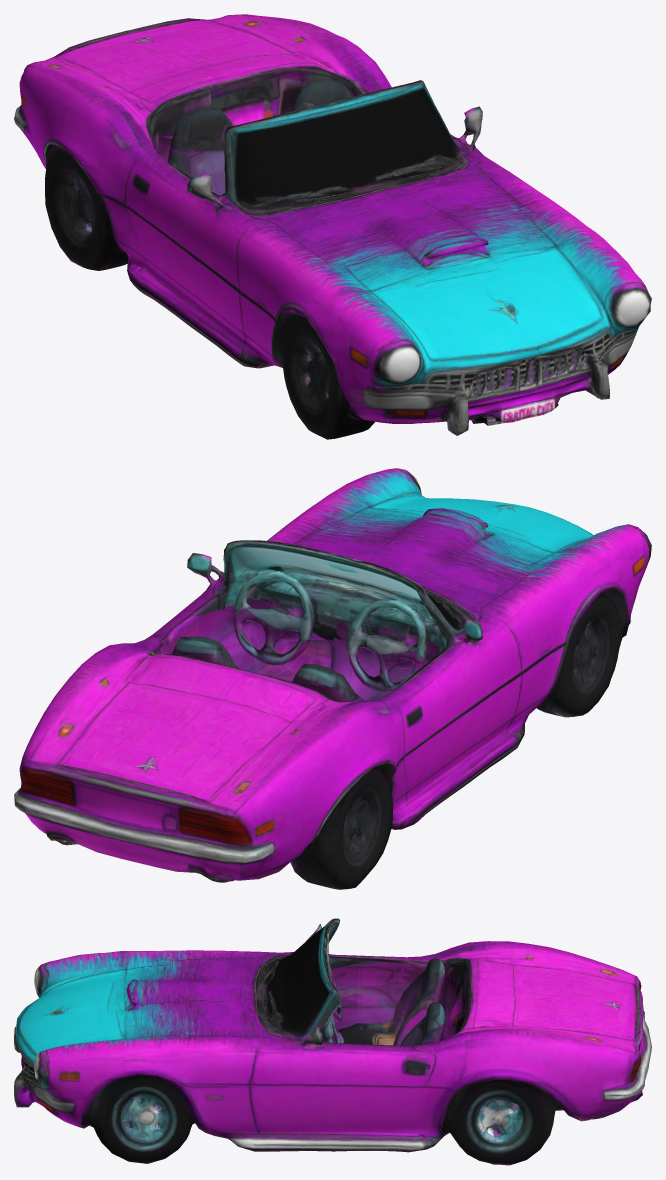
The model's file is vice-city-car.glb.
3 views of the same model, one above another, from view 1: azimuth 30°, elevation 25°; view 2: azimuth 150°, elevation 25°; view 3: azimuth 270°, elevation 25° (orthographic). The views are drawn at different scales.
Size of the model in its own units: 0.8572 by 0.5689 by 1.99.
1 material, 1 textured.
